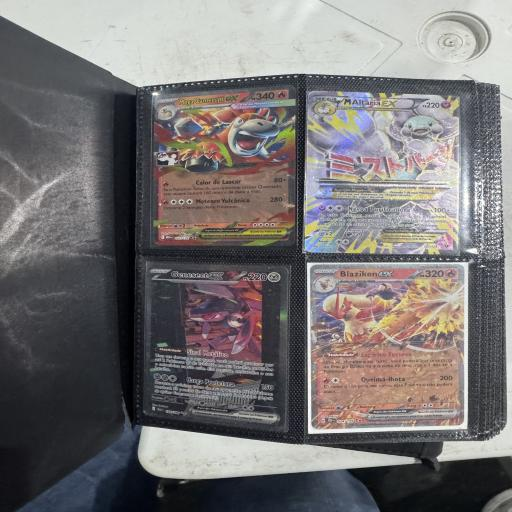card: (308, 263, 466, 432), (303, 91, 464, 255), (142, 262, 291, 434), (151, 84, 297, 246)
